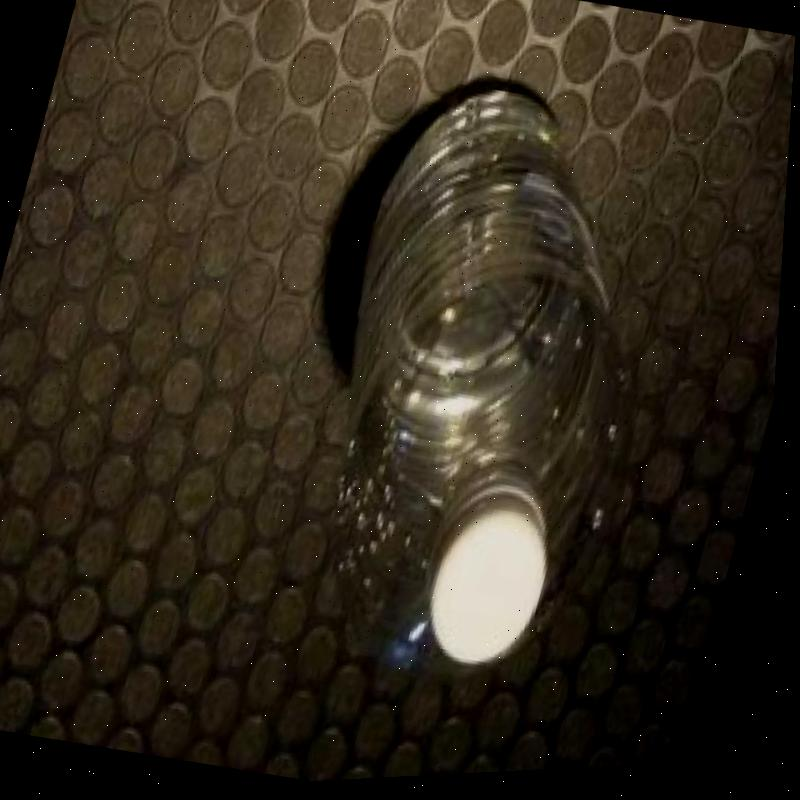botella: (262, 62, 710, 705)
